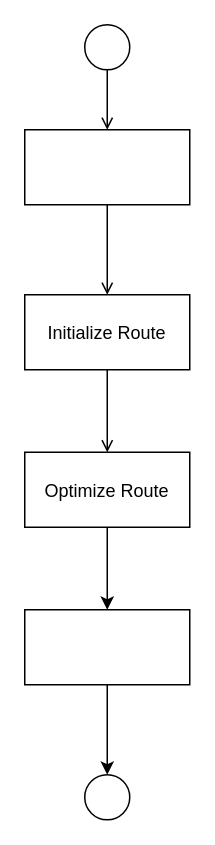
The diagram is 215 pixels wide and 845 high, and some of its shapes have lost their labels. Each missing label, with the box of its shape:
Insert new clock: (23, 128, 190, 205)
Start clock: (23, 608, 190, 685)
